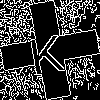K: (25, 25, 66, 76)
